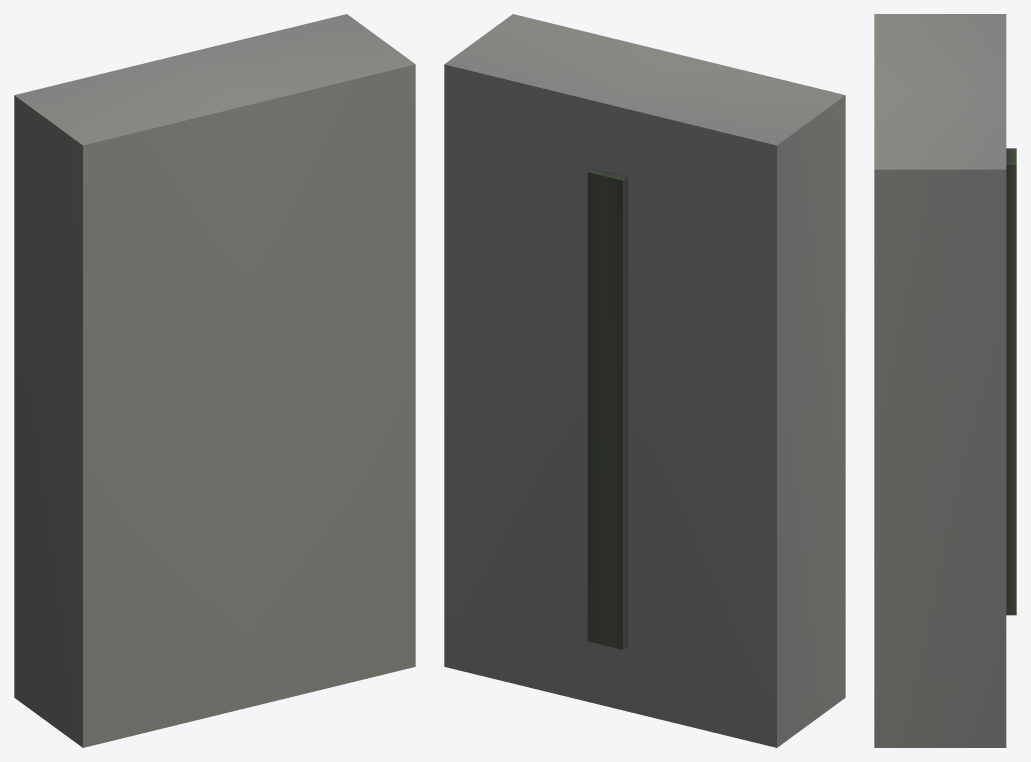
File: Backpack.fbx
3 views of the same model, side by side, from view 1: azimuth 30°, elevation 25°; view 2: azimuth 150°, elevation 25°; view 3: azimuth 270°, elevation 25° (orthographic). The views are drawn at different scales.
Visible parts, largest first — view 1: Cube.001; view 2: Cube.001; view 3: Cube.001.
Part boxes in pixels (box(x1,y1,x2,y2)): Cube.001: box(14, 14, 415, 747); Cube.001: box(444, 14, 845, 747); Cube.001: box(874, 14, 1016, 747).
Bounding box in the file's own units: 33.17 × 57.39 × 12.79.
